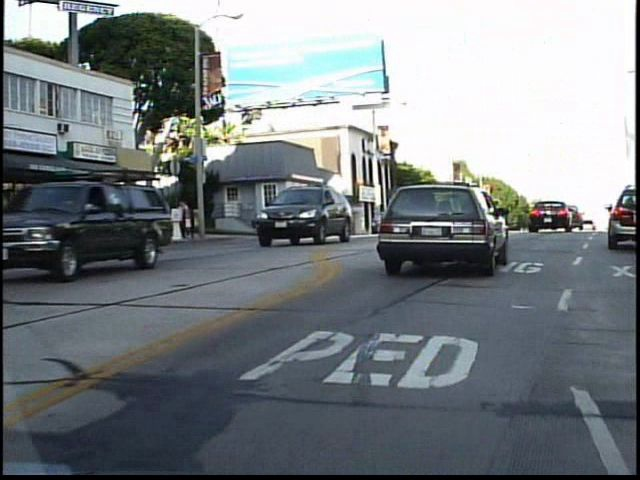person: (181, 196, 203, 243)
